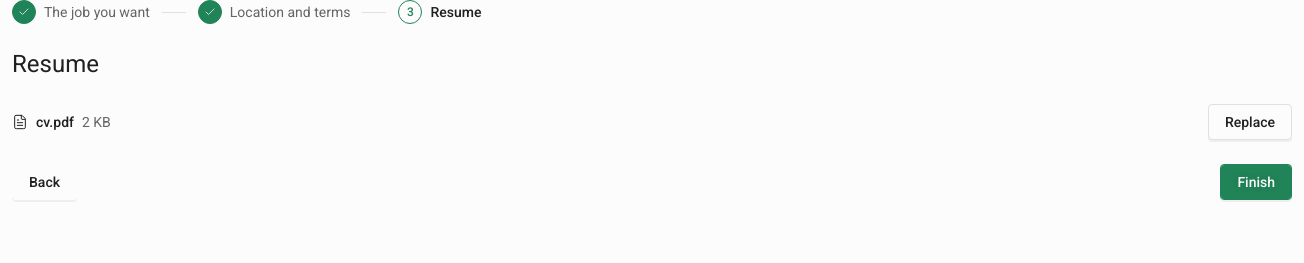
Test case: NewProfileResumeStep › a rejected publish request shows the failure message and Finish works again
Click the button "Finish" at (1256, 182), box [1220,164,1292,200]
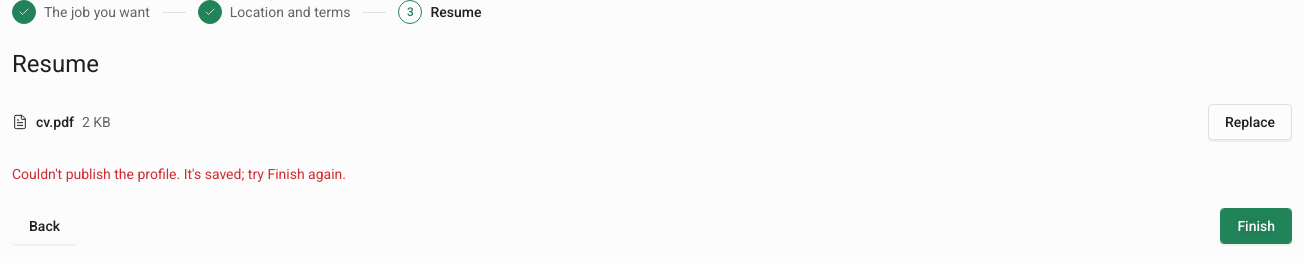
Expected: the button "Finish" is enabled, [1220,208,1292,244]
Now the message reads "Couldn't publish the profile. It's saved; try Finish again.", box [12,166,346,182]
